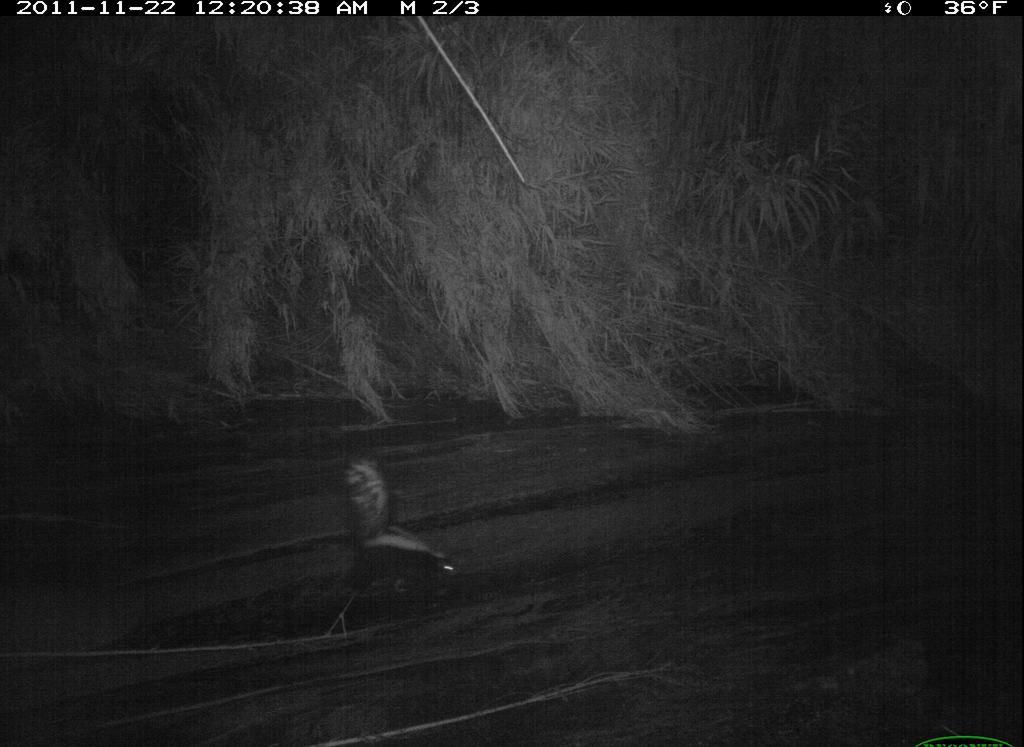skunk: (335, 447, 464, 610)
